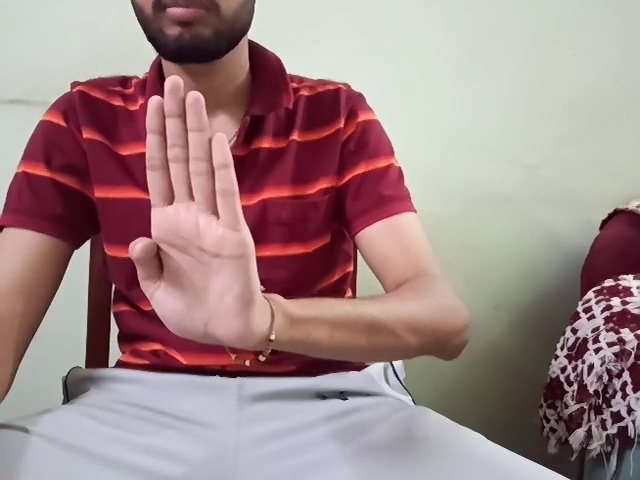B: (128, 75, 259, 348)
